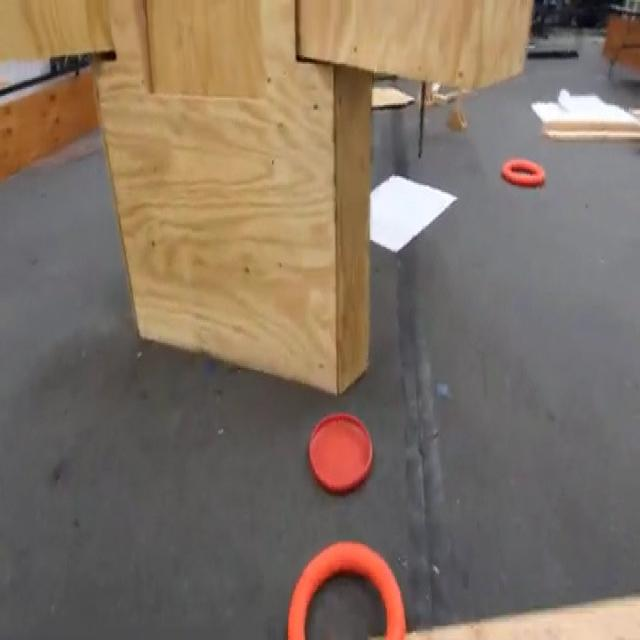note: (288, 538, 408, 640), (501, 158, 547, 188)
